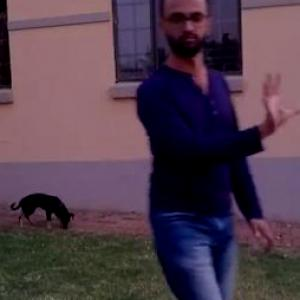follow_hand: (255, 68, 299, 134)
